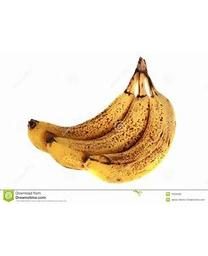banana: (22, 57, 177, 184)
